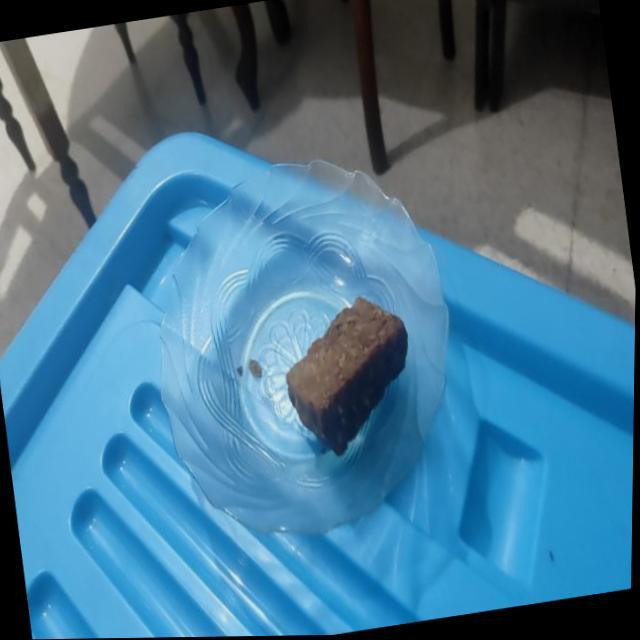tempe_goreng: (286, 297, 408, 454)
